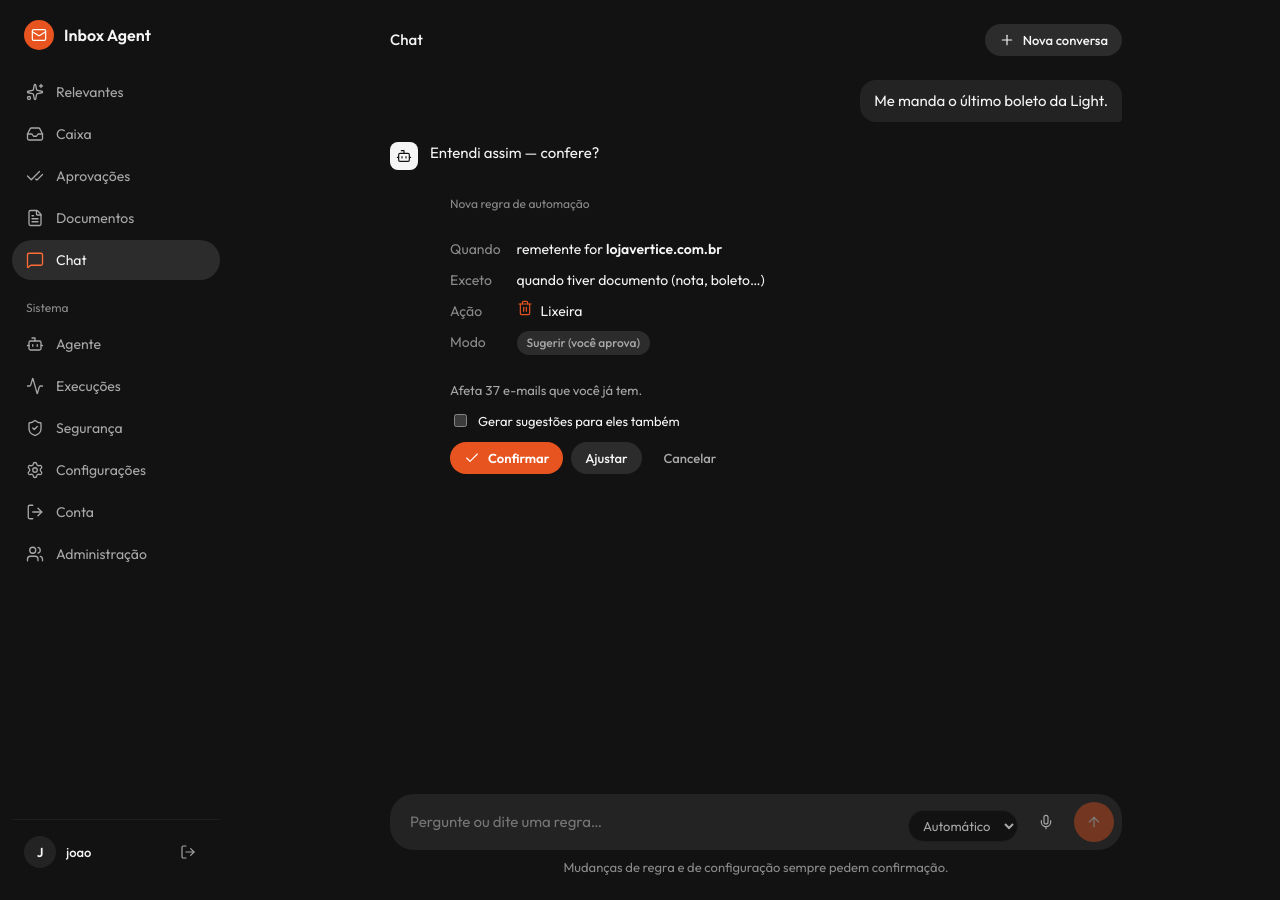
Test: confirm_refetches_and_renders_event_note_and_continuation
Click the button "Confirmar": (507, 458) [450,442,563,474]
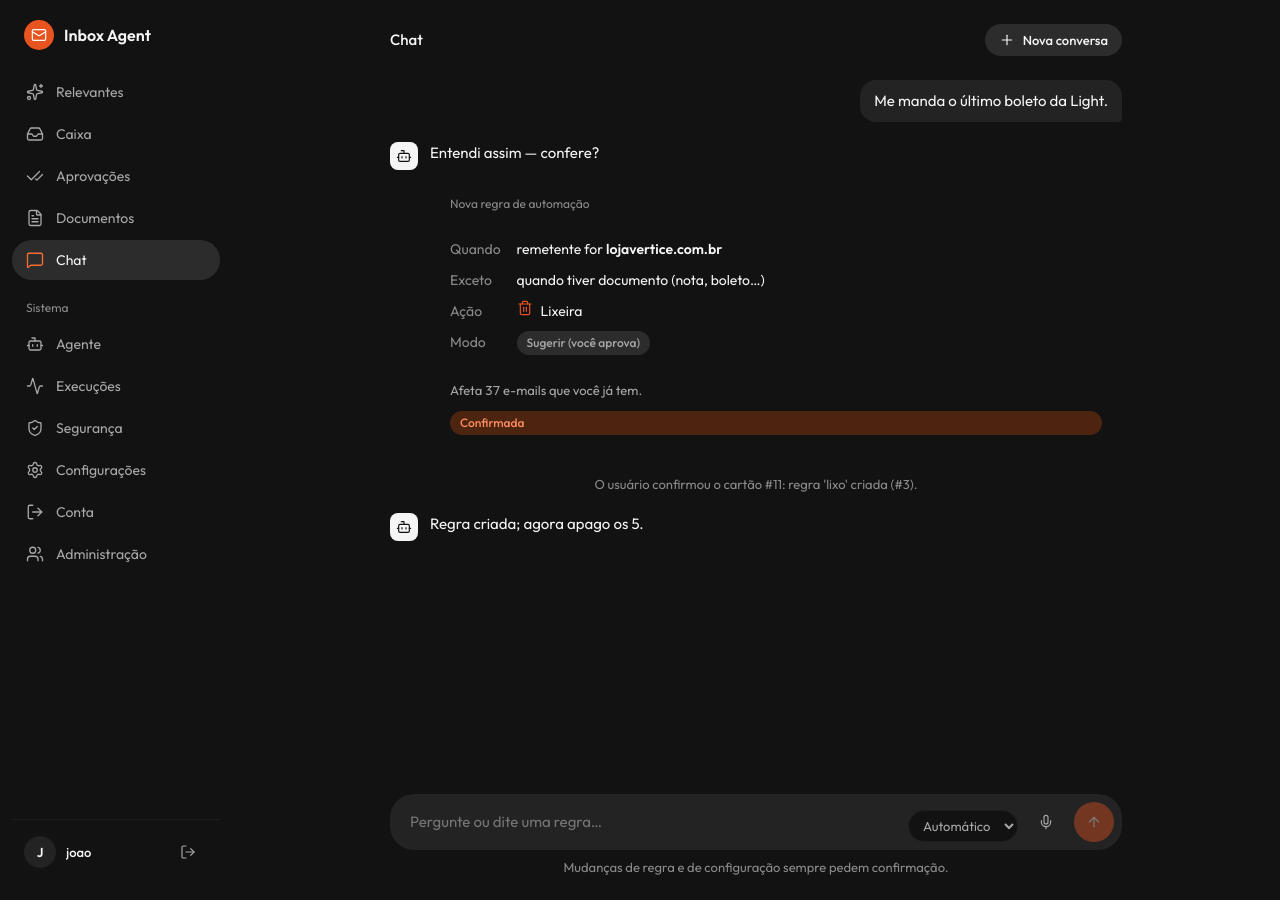
Expected: the text "O usuário confirmou o cartão #11: regra 'lixo' criada (#3)." does not show "[evento]", [594,476,917,492]
Expected: the text "O usuário confirmou o cartão #11: regra 'lixo' criada (#3)." is shown, [594,475,917,493]
Expected: the text "Regra criada; agora apago os 5." is shown, [430,514,644,533]
